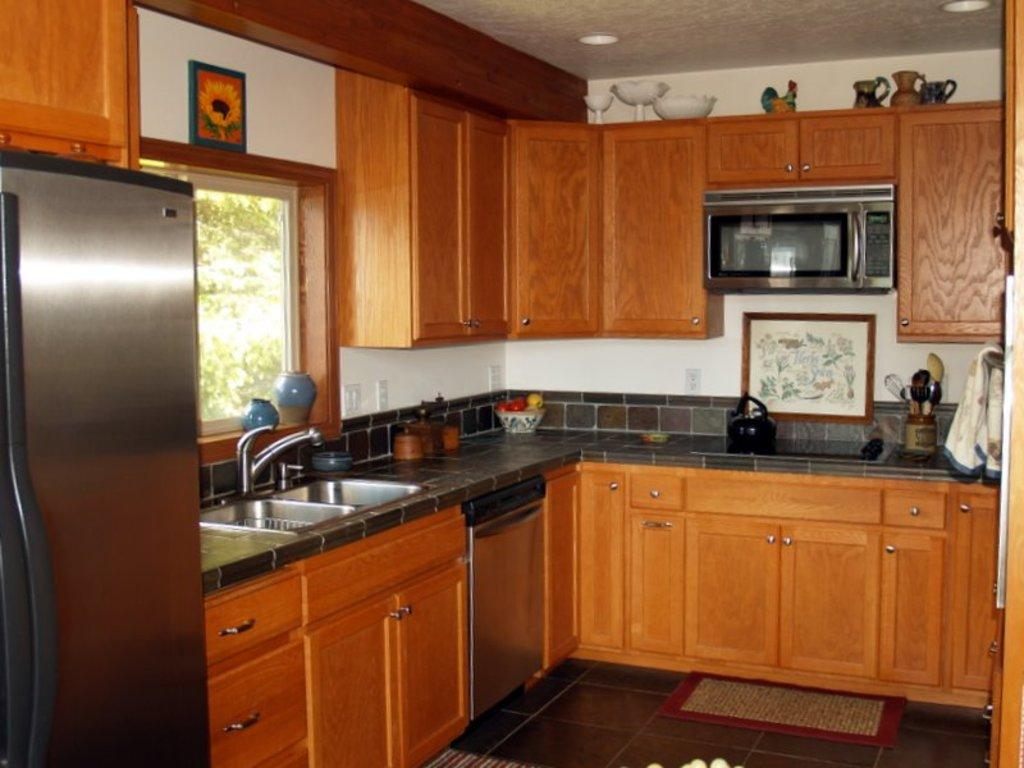cabinet_door: (902, 118, 1008, 330), (606, 136, 704, 332), (510, 125, 596, 337), (410, 95, 470, 331), (783, 530, 868, 670), (642, 474, 876, 522), (399, 592, 468, 742), (699, 522, 771, 660), (312, 627, 382, 768), (467, 124, 511, 339), (962, 502, 1004, 680), (212, 676, 294, 758), (888, 536, 934, 676), (585, 468, 615, 650), (632, 508, 670, 648), (802, 124, 898, 175), (715, 130, 796, 179), (206, 600, 296, 638), (892, 494, 938, 528)
handle: (4, 189, 63, 768), (215, 614, 259, 636), (222, 715, 260, 735), (641, 517, 671, 530), (402, 600, 418, 622), (781, 528, 797, 550), (601, 480, 619, 498), (386, 605, 400, 627), (763, 527, 777, 548), (906, 500, 920, 520), (518, 310, 532, 330), (884, 539, 898, 558), (646, 488, 664, 502), (958, 502, 974, 516)
